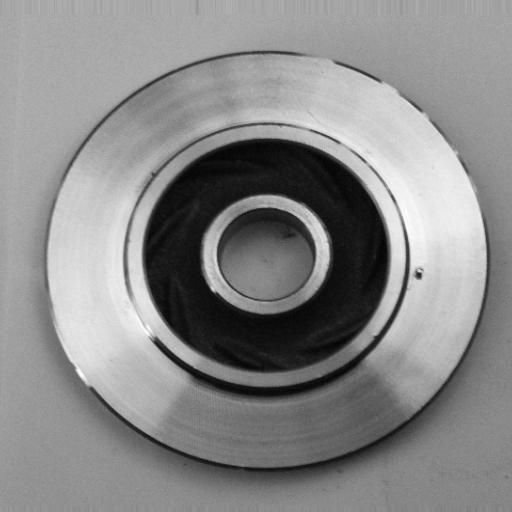crack: (405, 255, 435, 288)
scratch: (118, 262, 161, 347)
unpolished_casting: (42, 51, 490, 472)
